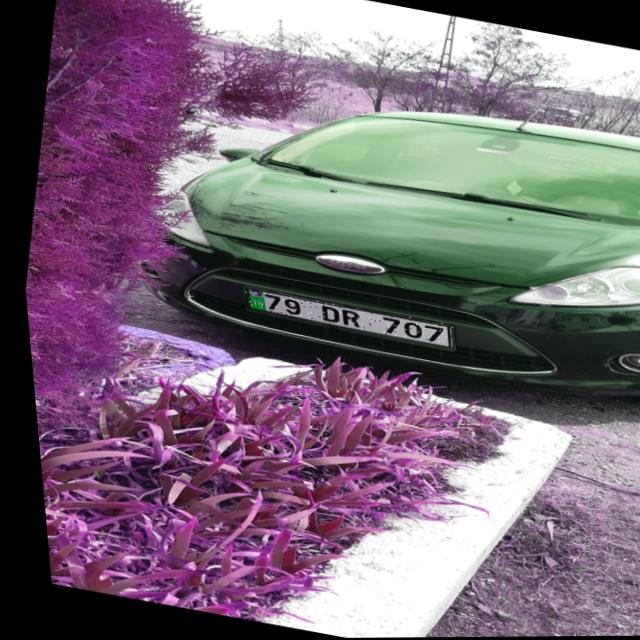plate: (236, 287, 448, 349)
